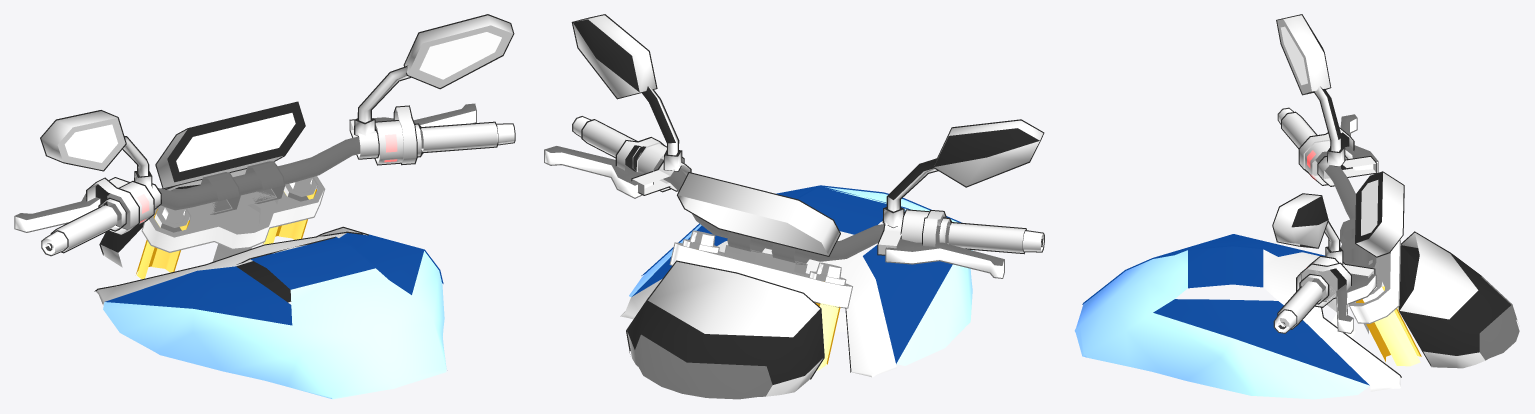
File: HandlesBike.fbx
The picture shows the model from 3 angles, left to right: view 1: azimuth 30°, elevation 25°; view 2: azimuth 150°, elevation 25°; view 3: azimuth 270°, elevation 25°; orthographic projection. The views are drawn at different scales.
Visible parts, largest first — view 1: Body_Bike_Mat_Lighter_0.001; view 2: Body_Bike_Mat_Lighter_0.001; view 3: Body_Bike_Mat_Lighter_0.001.
Boxes of the visible parts, x1,y1,x2,y2 form: Body_Bike_Mat_Lighter_0.001: [14, 14, 515, 399]; Body_Bike_Mat_Lighter_0.001: [544, 14, 1044, 399]; Body_Bike_Mat_Lighter_0.001: [1074, 14, 1519, 399].
Bounding box in the file's own units: 83.32 × 39.86 × 73.59.
